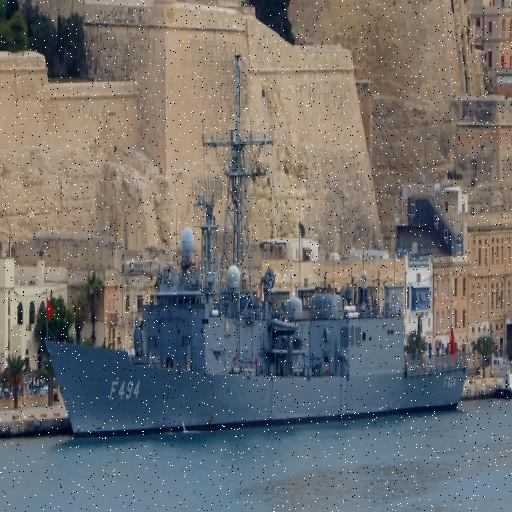Fragata: (41, 40, 472, 449)
